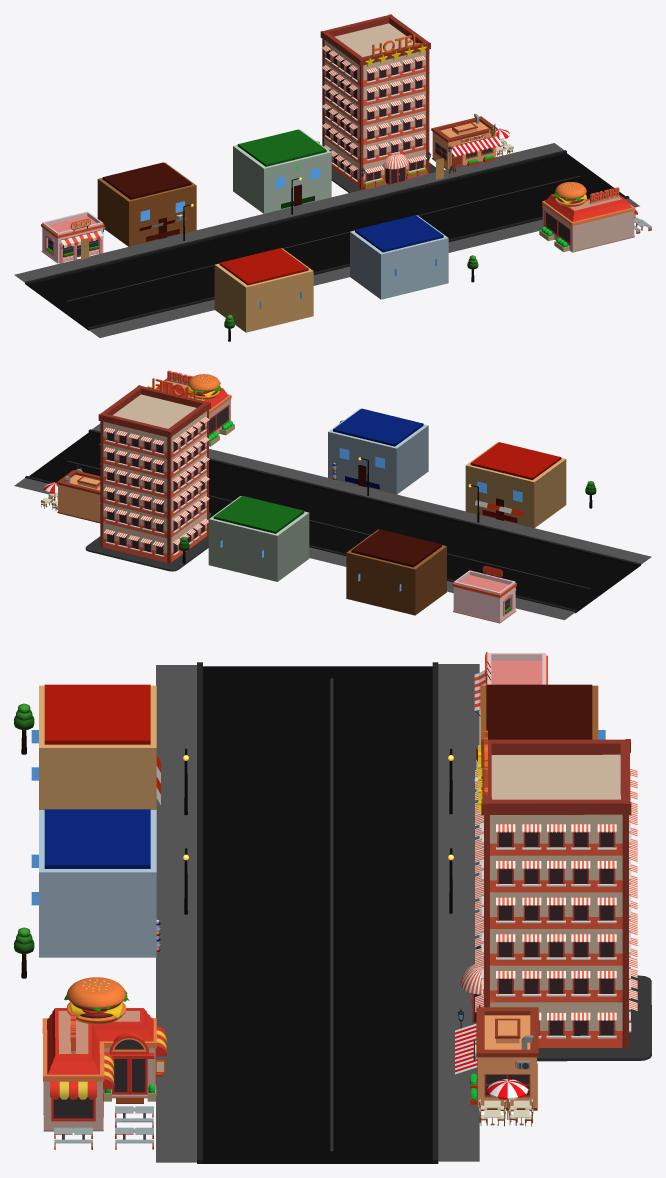
3 views of the same model, one above another, from view 1: azimuth 30°, elevation 25°; view 2: azimuth 150°, elevation 25°; view 3: azimuth 270°, elevation 25° (orthographic). The views are drawn at different scales.
Visible parts, largest first — view 1: Mesh_0, Hotel1, Mesh_2, Mesh_45, Mesh_33, Mesh_23, Mesh_6, BurgerBuilding, Mesh_3, RestaurantBuilding, Mesh_4, ShopBuilding (+7 smaller); view 2: Mesh_0, Hotel1, Mesh_23, Mesh_6, Mesh_45, Mesh_3, Mesh_33, ShopBuilding, Mesh_24, Mesh_34, Mesh_46, Mesh_7 (+7 smaller); view 3: Mesh_0, Hotel1, Mesh_3, Mesh_2, BurgerBuilding, Mesh_45, Mesh_33, Mesh_34, Mesh_46, RestaurantBuilding, Mesh_7, Mesh_4 (+7 smaller).
Part boxes in pixels (bbox=[...]): Mesh_0: bbox=[27, 153, 625, 329]; Hotel1: bbox=[320, 14, 435, 192]; Mesh_2: bbox=[14, 143, 563, 282]; Mesh_45: bbox=[350, 215, 448, 299]; Mesh_33: bbox=[214, 248, 313, 332]; Mesh_23: bbox=[233, 129, 331, 213]; Mesh_6: bbox=[97, 162, 196, 246]; BurgerBuilding: bbox=[542, 194, 637, 252]; Mesh_3: bbox=[89, 198, 639, 337]; RestaurantBuilding: bbox=[431, 113, 502, 169]; Mesh_4: bbox=[25, 150, 566, 284]; ShopBuilding: bbox=[41, 211, 105, 263]; Mesh_0: bbox=[29, 432, 638, 611]; Hotel1: bbox=[85, 378, 210, 571]; Mesh_23: bbox=[208, 496, 309, 581]; Mesh_6: bbox=[346, 529, 446, 615]; Mesh_45: bbox=[328, 408, 428, 494]; Mesh_3: bbox=[92, 423, 651, 564]; Mesh_33: bbox=[465, 442, 566, 528]; ShopBuilding: bbox=[452, 566, 516, 623]; Mesh_24: bbox=[213, 495, 304, 533]; Mesh_34: bbox=[470, 442, 561, 479]; Mesh_46: bbox=[333, 408, 423, 446]; Mesh_7: bbox=[351, 529, 441, 567]; Mesh_0: bbox=[203, 666, 432, 1163]; Hotel1: bbox=[460, 730, 651, 1061]; Mesh_3: bbox=[156, 665, 196, 1162]; Mesh_2: bbox=[438, 664, 479, 1161]; BurgerBuilding: bbox=[42, 1008, 166, 1131]; Mesh_45: bbox=[39, 810, 156, 957]; Mesh_33: bbox=[39, 685, 156, 809]; Mesh_34: bbox=[44, 684, 150, 744]; Mesh_46: bbox=[44, 809, 150, 868]; RestaurantBuilding: bbox=[455, 1007, 538, 1110]; Mesh_7: bbox=[486, 684, 592, 739]; Mesh_4: bbox=[432, 662, 438, 1163].
Size of what is drawn, in the model's own units: 40 by 10.09 by 21.67.
Materials: 89 (4 with a texture image).
